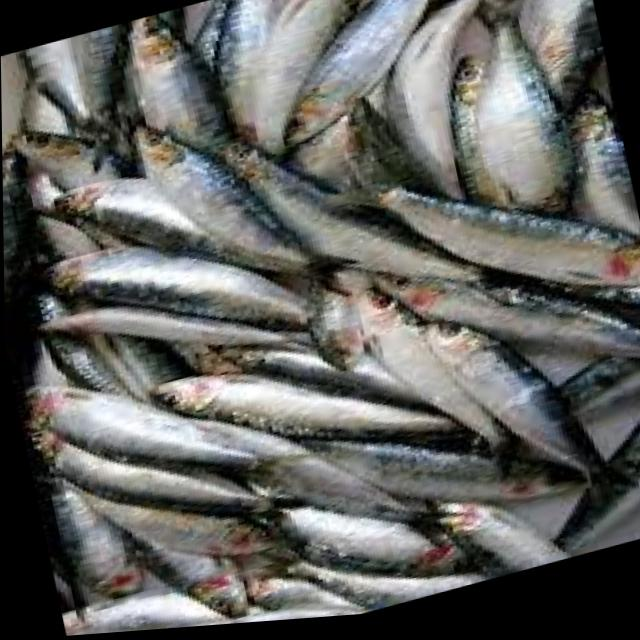Wet: (0, 0, 640, 640), (0, 0, 355, 383)
